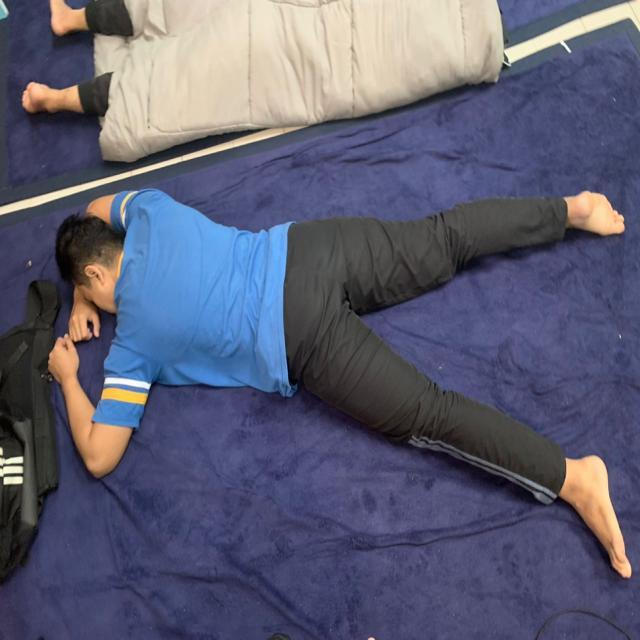fall: (52, 184, 630, 580)
